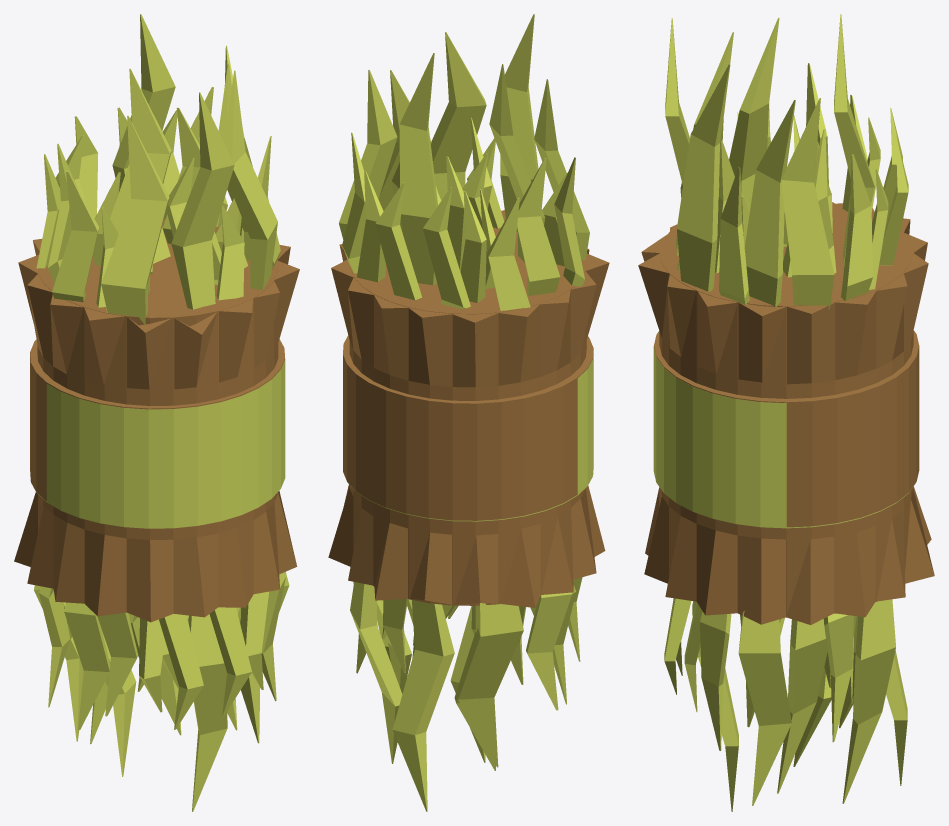
The model's file is newgrassbundle.fbx.
The picture shows the model from 3 angles, left to right: view 1: azimuth 30°, elevation 25°; view 2: azimuth 150°, elevation 25°; view 3: azimuth 270°, elevation 25°; orthographic projection. The views are drawn at different scales.
Visible parts, largest first — view 1: grass bundle; view 2: grass bundle; view 3: grass bundle.
Part boxes in pixels (x1,y1,x2,y2): grass bundle: [14, 14, 299, 811]; grass bundle: [328, 14, 609, 811]; grass bundle: [638, 14, 934, 811].
Bounding box in the file's own units: 19.23 × 58.01 × 19.56.
